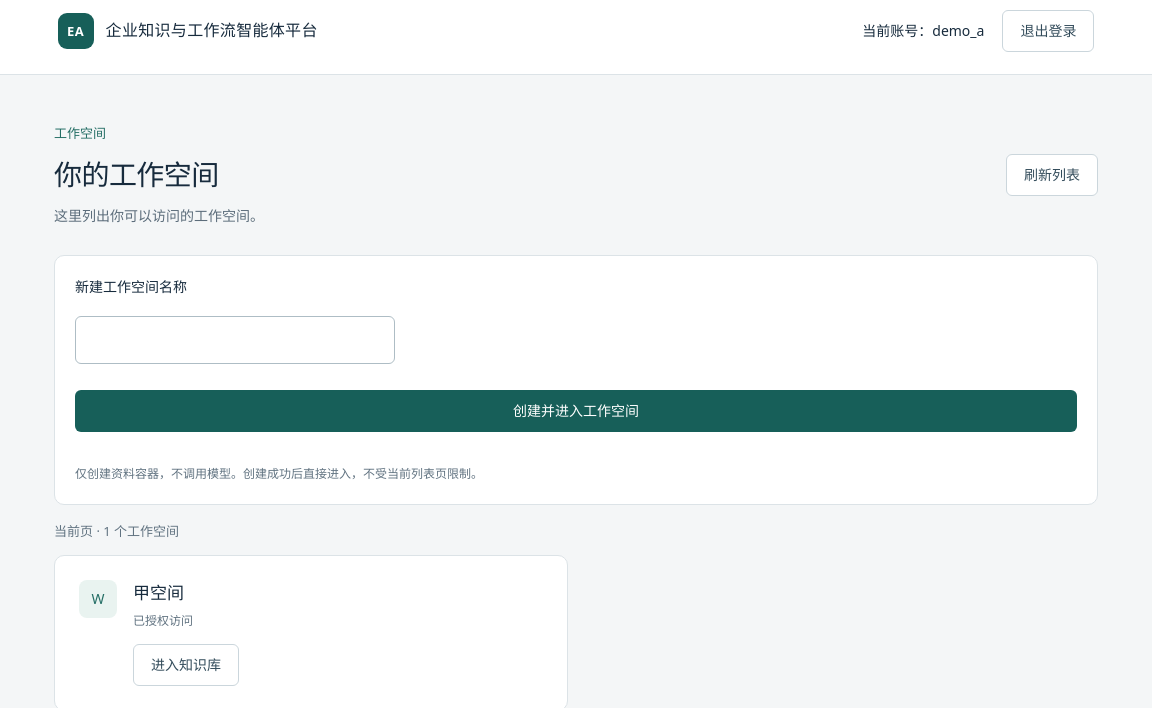
Test case: 独立引用问答页的排错编号 › POST 成功 A 后来源 GET 失败 B，只显示失败 GET 的编号 B，整批答案仍隐藏
Click the button with aria-label "进入甲空间" at (186, 665), box 133,644 -> 239,686
(page scrolled)
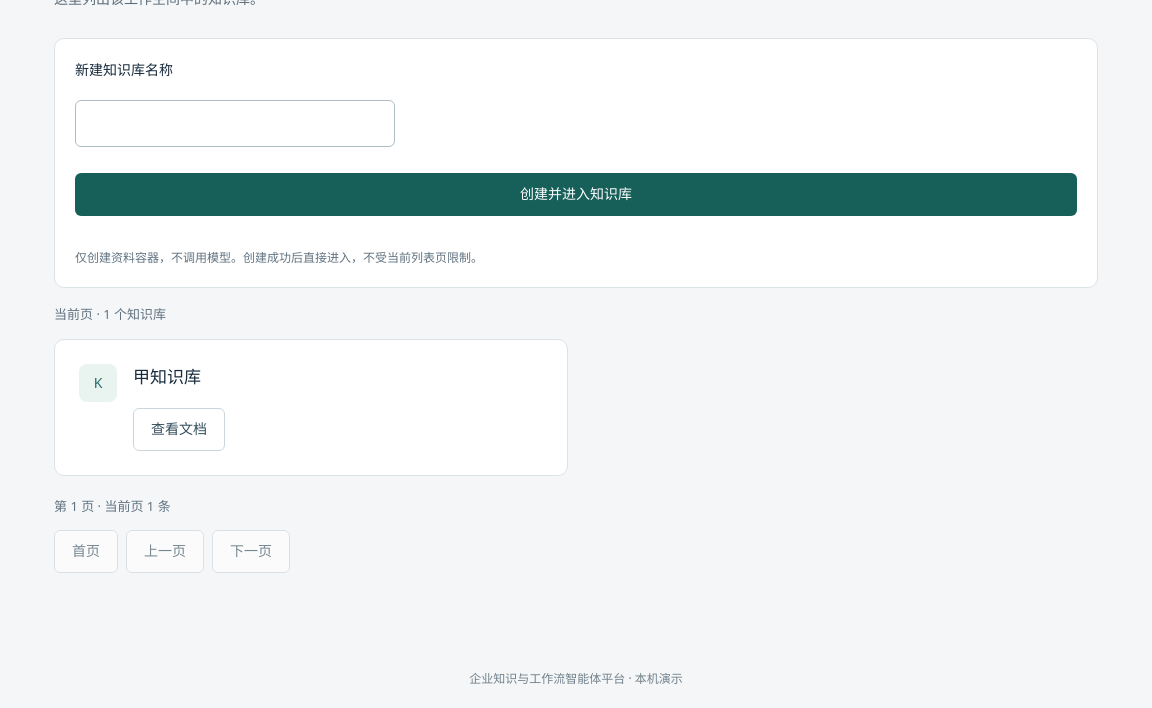
Click the button with aria-label "查看甲知识库的文档" at (179, 429), box 133,408 -> 225,451
(page scrolled)
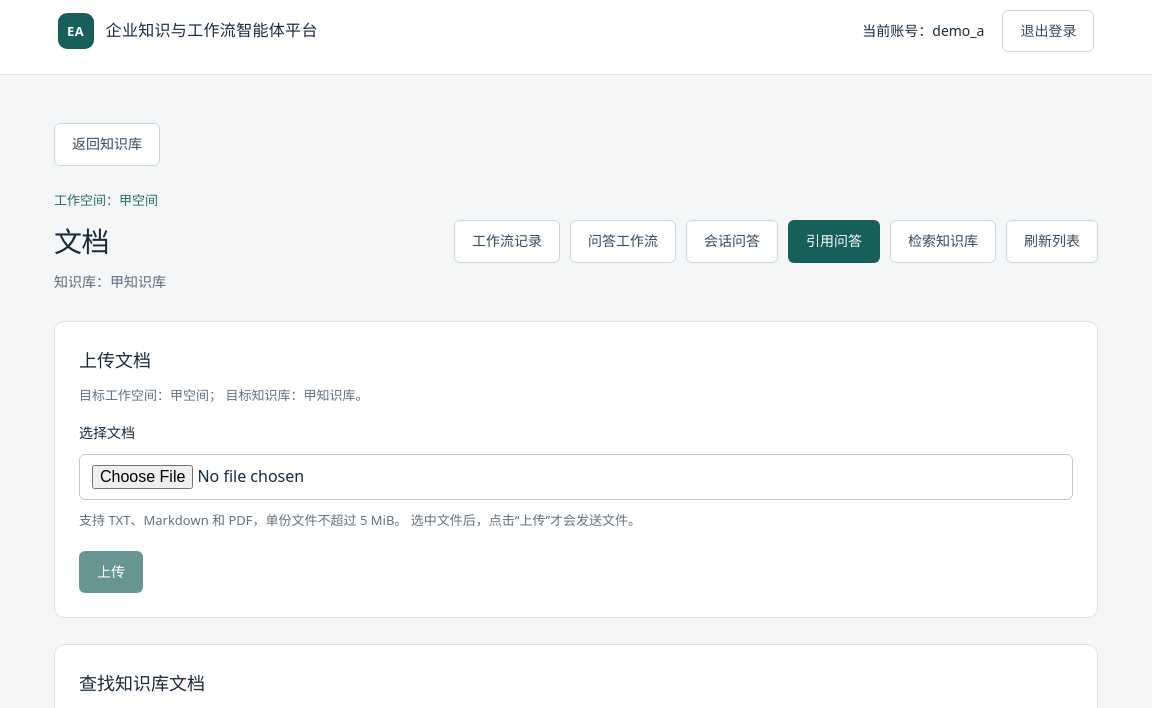
Click the button "引用问答" at (834, 242), box 788,220 -> 880,263
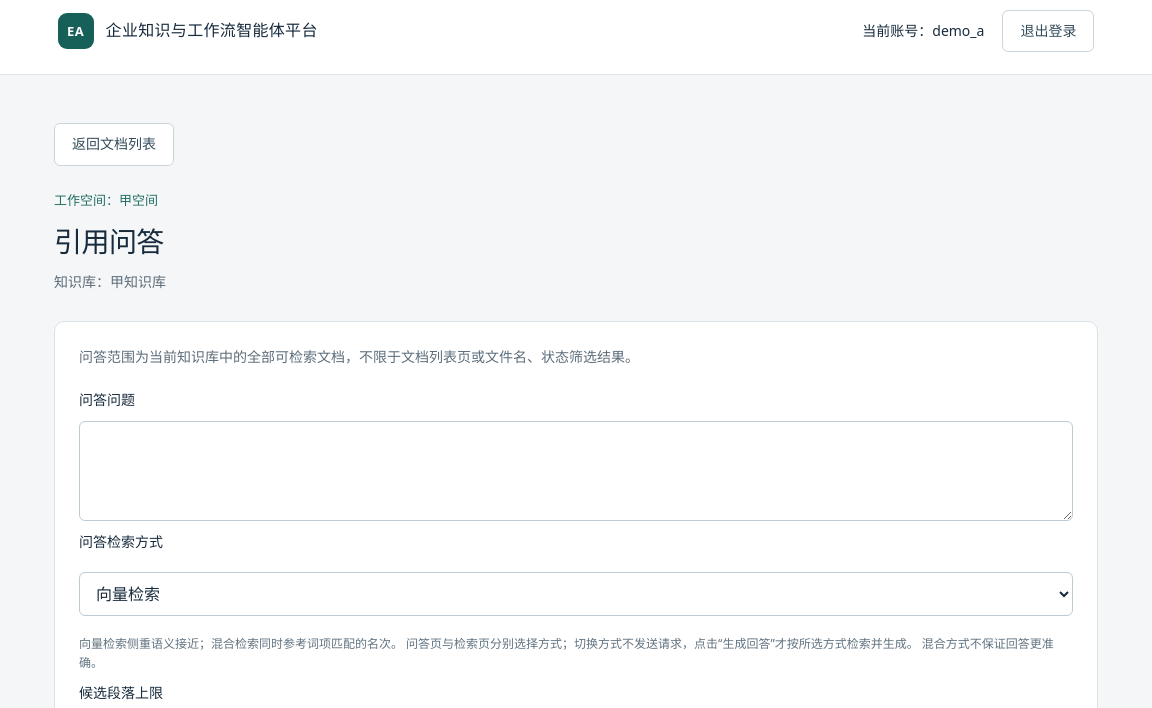
Type "导出条目包含什么？" into the text box labelled "问答问题" at (576, 471), box 79,421 -> 1073,521
(page scrolled)
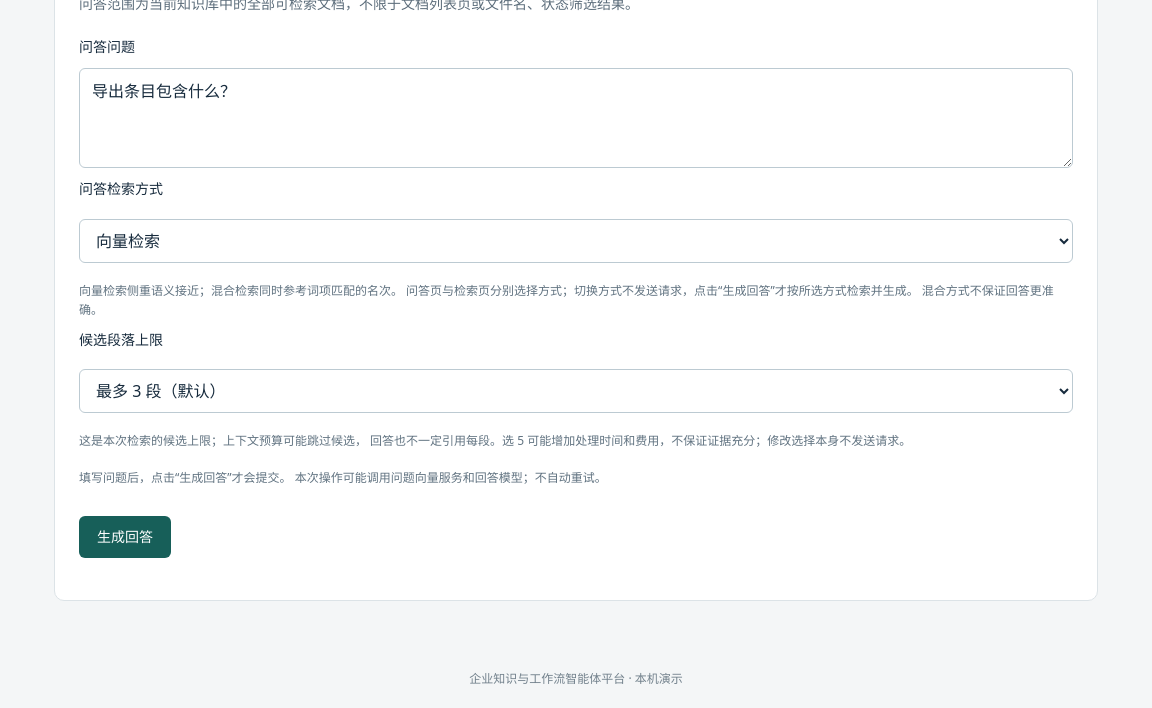
Click the button "生成回答" at (125, 537), box 79,516 -> 171,558
(page scrolled)
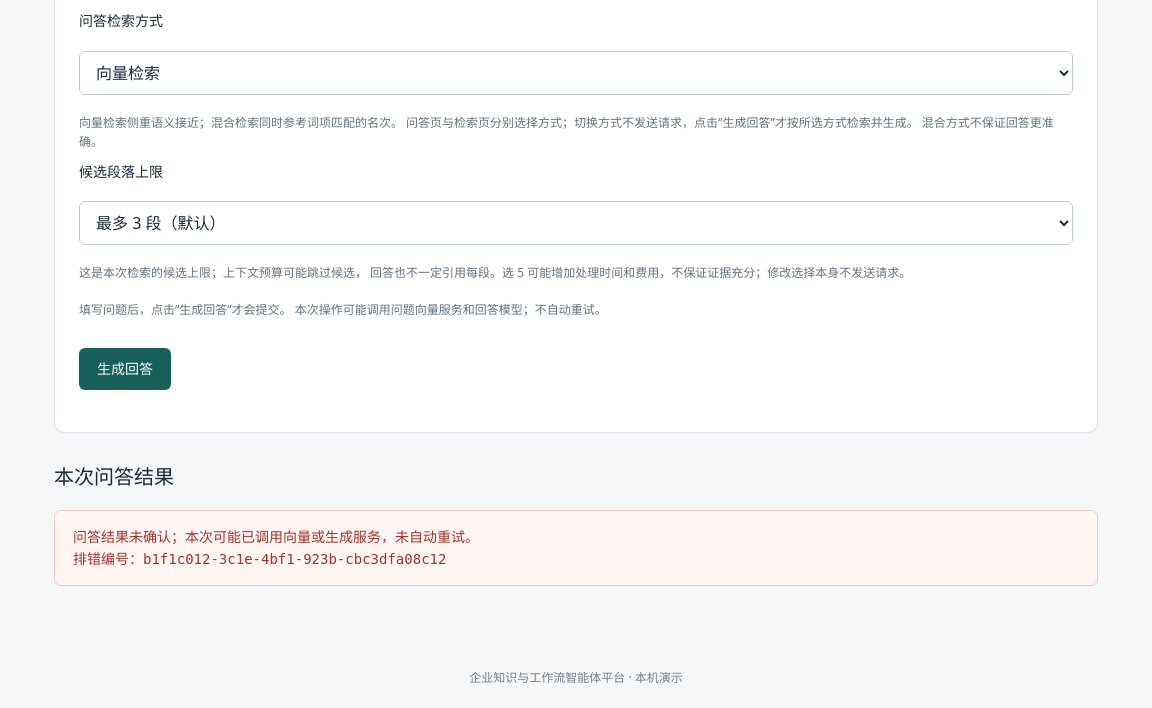
Result: the message "问答结果未确认；本次可能已调用向量或生成服务，未自动重试。排错编号：b1f1c012-3c1e-4bf1-923b-cbc3dfa08c12" is shown at 54,510 -> 1098,586
Result: the text "排错编号：" is shown at 73,549 -> 143,568
Result: the text "问答结果未确认" is shown at 73,527 -> 479,546
